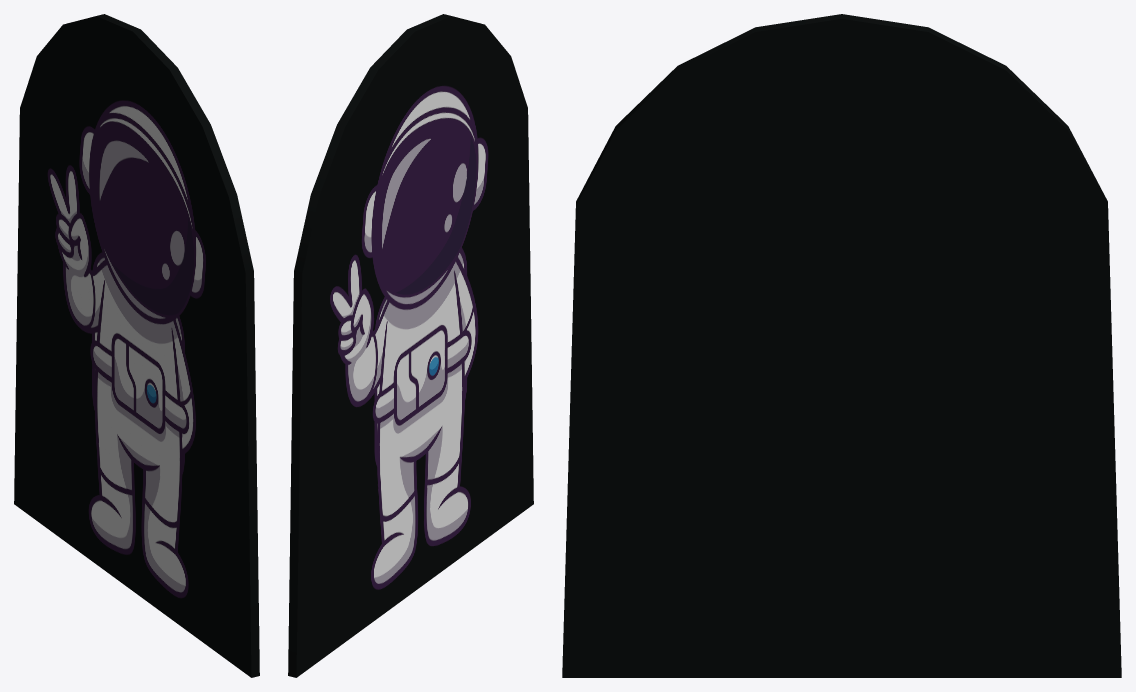
File: LVR_Astronaut_Target.fbx
The picture shows the model from 3 angles, left to right: view 1: azimuth 30°, elevation 25°; view 2: azimuth 150°, elevation 25°; view 3: azimuth 270°, elevation 25°; orthographic projection. The views are drawn at different scales.
Visible parts, largest first — view 1: pCylinder1; view 2: pCylinder1; view 3: pCylinder1.
Boxes of the visible parts, x1,y1,x2,y2 form: pCylinder1: (14,14,259,677); pCylinder1: (288,14,533,677); pCylinder1: (562,14,1121,677).
Bounding box in the file's own units: 1.8 × 115 × 88.09.
1 material, 1 textured.
